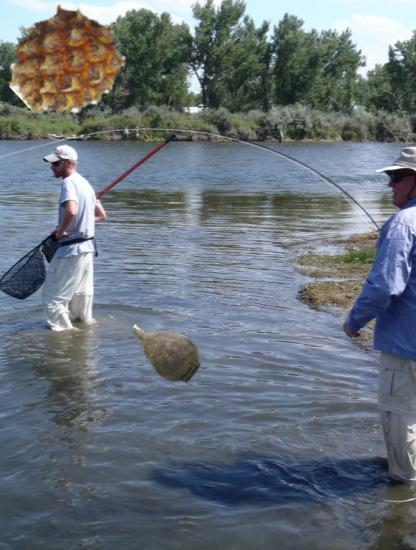Beetroot: (126, 310, 206, 390)
Pineapple: (8, 6, 122, 120)
